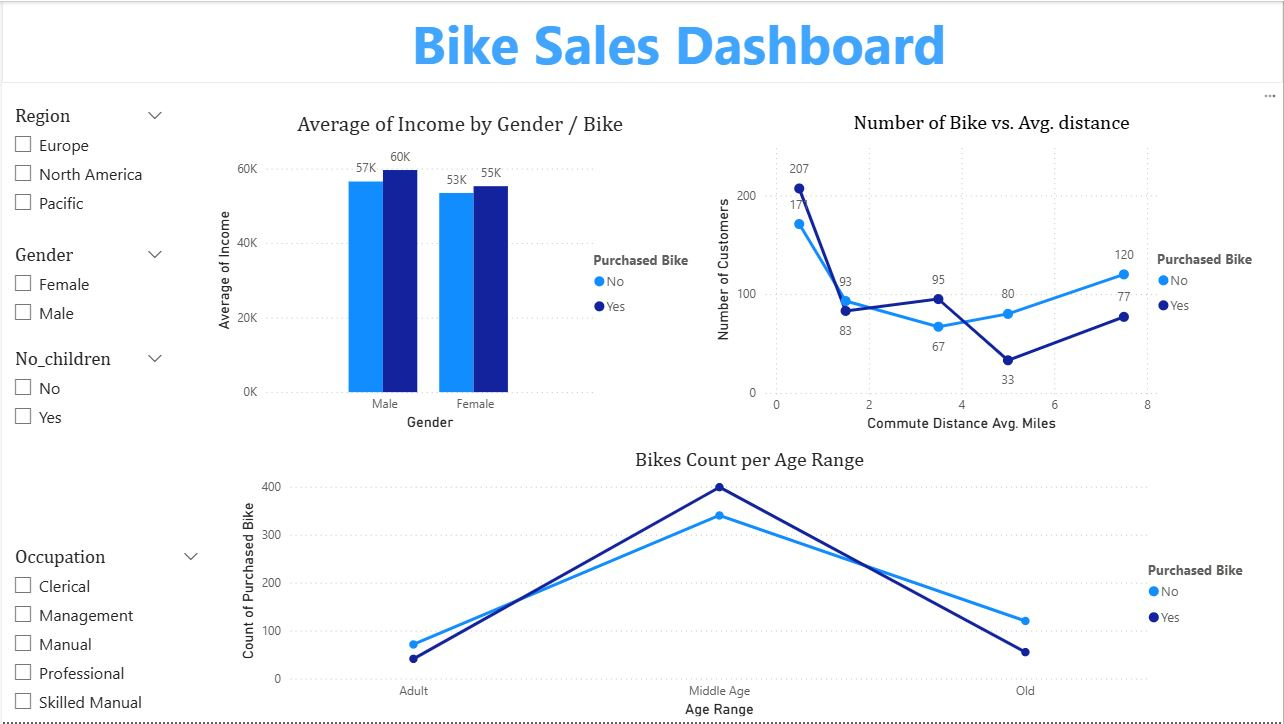

What the dashboard file says about the page in this screenshot:
{"tool":"powerbi","page":{"name":"Page 1","canvas":[1280,720],"ordinal":0},"visuals":[{"type":"clusteredColumnChart","title":"Average of Income by Gender / Bike","fields":{"Category":["bike_buyers.Gender"],"Y":["Avg(bike_buyers.Income)"],"Series":["bike_buyers.Purchased Bike"]},"box":[209.1,110.9,498,322.9],"z":0},{"type":"slicer","fields":{"Values":["bike_buyers.Region"]},"box":[0,100.4,172.5,127.4],"z":1000},{"type":"slicer","fields":{"Values":["bike_buyers.Gender"]},"box":[0,239.1,172.5,103.8],"z":2000},{"type":"textbox","box":[0,0,1280,81.7],"z":3000},{"type":"slicer","fields":{"Values":["bike_buyers.No_children"]},"box":[0,342.8,172.5,181.6],"z":4000},{"type":"slicer","fields":{"Values":["bike_buyers.Occupation"]},"box":[0,540.2,208.6,179.3],"z":5000},{"type":"lineChart","title":"Number of Bike  vs. Avg. distance","fields":{"Series":["bike_buyers.Purchased Bike"],"Y":["CountNonNull(bike_buyers.Purchased Bike)"],"Category":["bike_buyers.Approx. Cummute Distance"]},"box":[707.1,110.5,562.7,323.7],"z":6000},{"type":"lineChart","title":"Bikes Count per Age Range ","fields":{"Y":["CountNonNull(bike_buyers.Purchased Bike)"],"Series":["bike_buyers.Purchased Bike"],"Category":["bike_buyers.Age Range"]},"box":[232.5,447.4,1028.1,272.3],"z":7000}]}

Visuals, with their boxes in screenshot pixels (x1, y1, x2, y2), scaled from the page's 1280x720 canvas onto the 1284x724 screenshot:
"Average of Income by Gender / Bike" clusteredColumnChart: {"x1": 210, "y1": 112, "x2": 709, "y2": 436}
slicer - bike_buyers.Region: {"x1": 0, "y1": 101, "x2": 173, "y2": 229}
slicer - bike_buyers.Gender: {"x1": 0, "y1": 240, "x2": 173, "y2": 345}
textbox: {"x1": 0, "y1": 0, "x2": 1283, "y2": 82}
slicer - bike_buyers.No_children: {"x1": 0, "y1": 345, "x2": 173, "y2": 527}
slicer - bike_buyers.Occupation: {"x1": 0, "y1": 543, "x2": 209, "y2": 723}
"Number of Bike  vs. Avg. distance" lineChart: {"x1": 709, "y1": 111, "x2": 1274, "y2": 437}
"Bikes Count per Age Range " lineChart: {"x1": 233, "y1": 450, "x2": 1265, "y2": 723}
